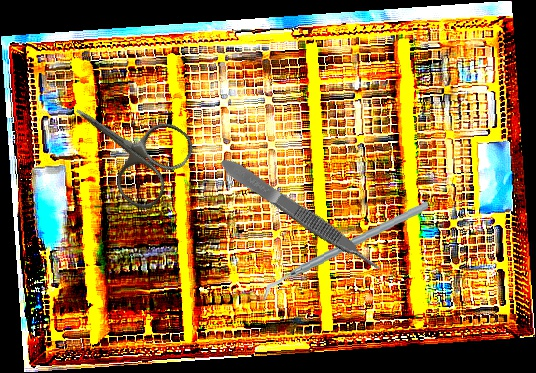Chopper: (256, 201, 434, 301)
Iris Scissors: (51, 73, 200, 216)
Tissue Forceps: (216, 152, 387, 280)
